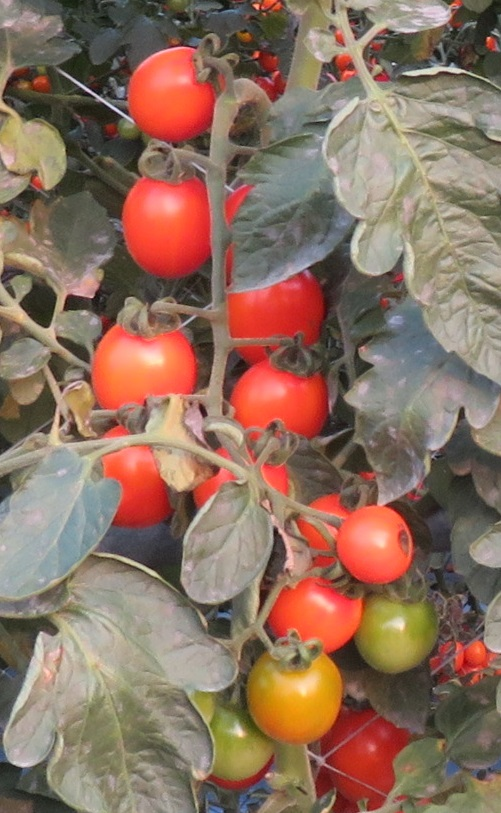green: (366, 600, 441, 676)
orange: (117, 45, 219, 143), (243, 653, 349, 744), (121, 175, 212, 279), (91, 327, 200, 406), (97, 430, 176, 530), (265, 583, 365, 658), (231, 366, 333, 438), (334, 505, 417, 585), (225, 276, 318, 347)
